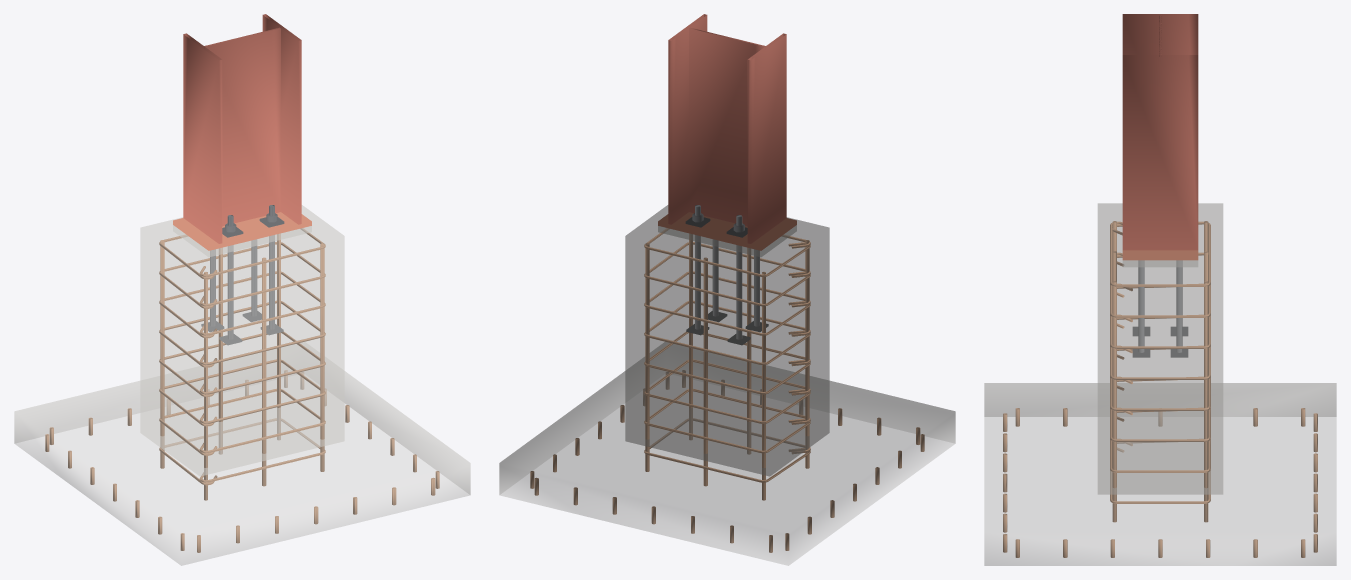
File: base_central.glb
The picture shows the model from 3 angles, left to right: view 1: azimuth 30°, elevation 25°; view 2: azimuth 150°, elevation 25°; view 3: azimuth 270°, elevation 25°; orthographic projection. The views are drawn at different scales.
Parts seen in each view (by area): view 1: concrete, frame, rebar, bolt, plate; view 2: concrete, frame, rebar, bolt, plate; view 3: concrete, frame, rebar, bolt, plate.
Boxes of the visible parts, x1,y1,x2,y2 form: concrete: (14, 205, 470, 565); frame: (183, 14, 301, 243); rebar: (45, 228, 439, 552); bolt: (201, 205, 284, 345); plate: (173, 212, 311, 250); concrete: (499, 205, 955, 565); frame: (668, 14, 786, 243); rebar: (530, 228, 924, 552); bolt: (685, 205, 768, 345); plate: (658, 212, 796, 250); concrete: (984, 203, 1336, 565); frame: (1122, 14, 1198, 250); rebar: (1003, 221, 1317, 557); bolt: (1132, 260, 1188, 357); plate: (1122, 250, 1198, 260).
Bounding box in the file's own units: 1.4 × 2 × 1.4.
